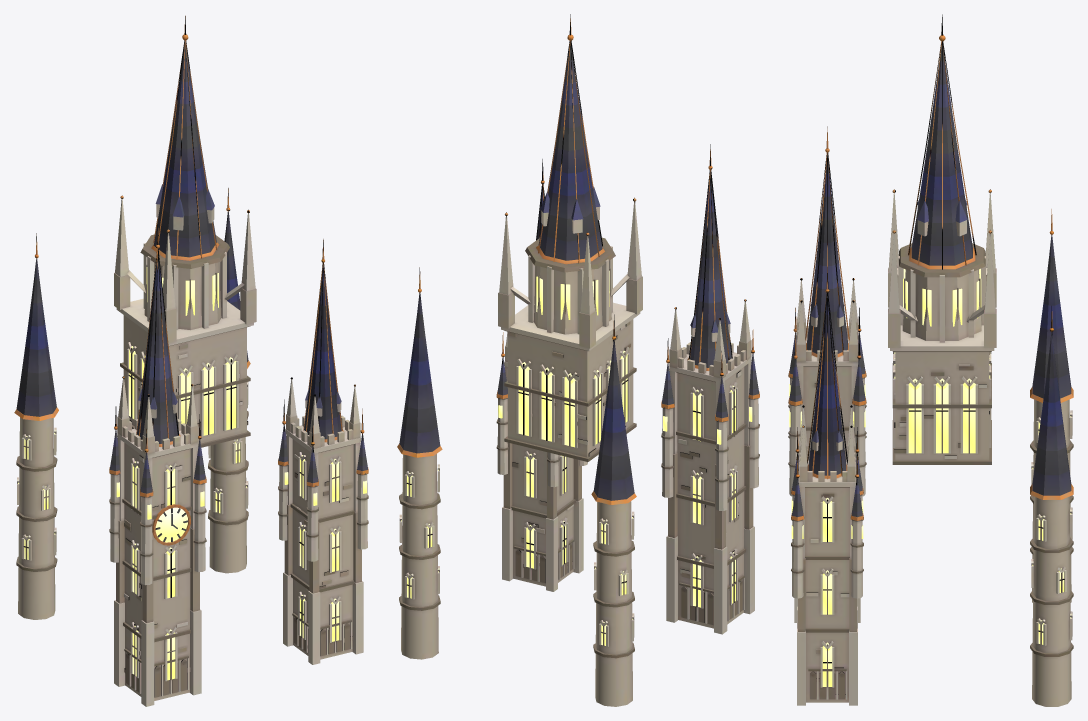
File: gothic_towers.glb
The picture shows the model from 3 angles, left to right: view 1: azimuth 30°, elevation 25°; view 2: azimuth 150°, elevation 25°; view 3: azimuth 270°, elevation 25°; orthographic projection. The views are drawn at different scales.
Visible parts, largest first — view 1: main, glow; view 2: main, glow; view 3: main, glow.
Boxes of the visible parts, box(x1,y1,x2,y2) form: main: box(14, 15, 368, 706); glow: box(18, 267, 366, 680); main: box(397, 14, 759, 706); glow: box(401, 270, 752, 645); main: box(788, 14, 1073, 706); glow: box(789, 269, 1071, 686).
Bounding box in the file's own units: 26.41 × 67.35 × 27.33.
3 materials, 1 textured.
